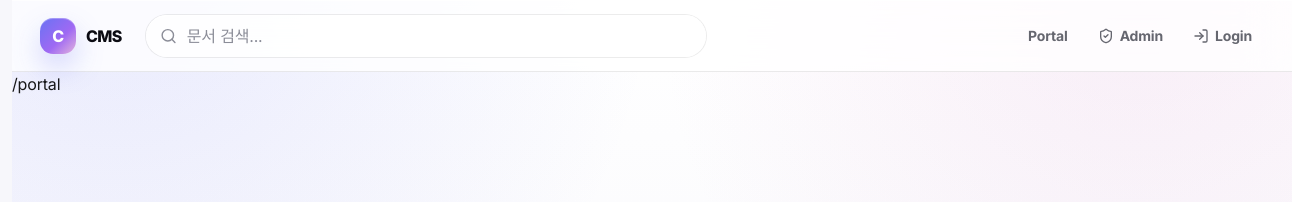
HeaderBar › 검색 결과를 클릭하면 해당 게시글 경로로 이동한다
Type "테스트" into the field with placeholder "문서 검색...".
click(439, 36); type("테스트")  # box [187,14,692,56]
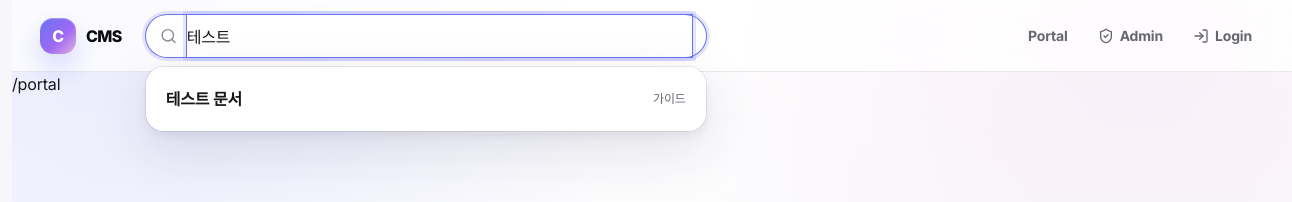
Expected: the text "테스트 문서" is shown, [166,86,242,110]
Click the button "테스트 문서 가이드".
click(204, 98)  # box [154,74,698,122]
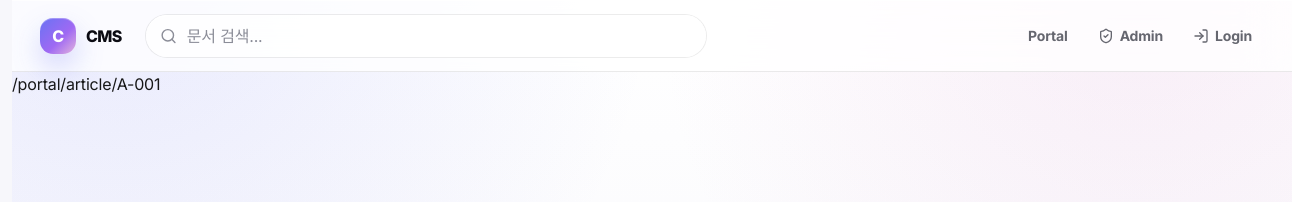
Expected: the text with test id "location" reads "/portal/article/A-001", [12,74,160,94]
